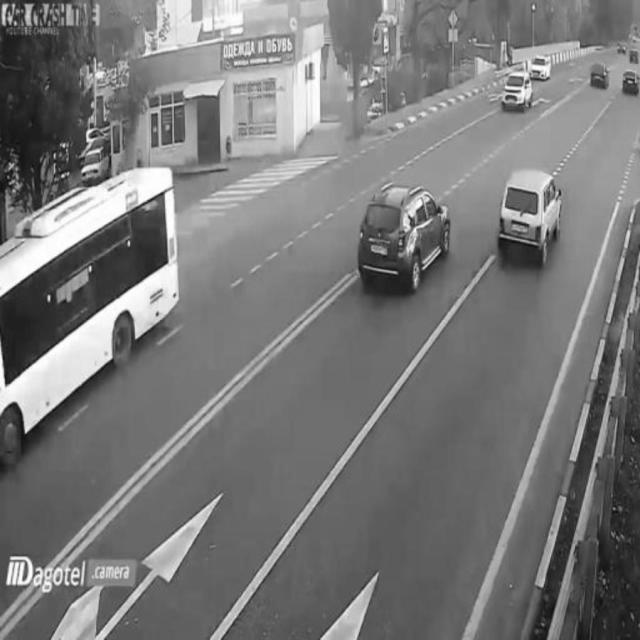vehicle: (1, 182, 178, 458), (356, 182, 454, 286), (497, 163, 564, 261), (499, 67, 536, 109), (82, 145, 109, 185), (586, 56, 613, 93), (527, 52, 557, 82), (620, 61, 640, 103)
